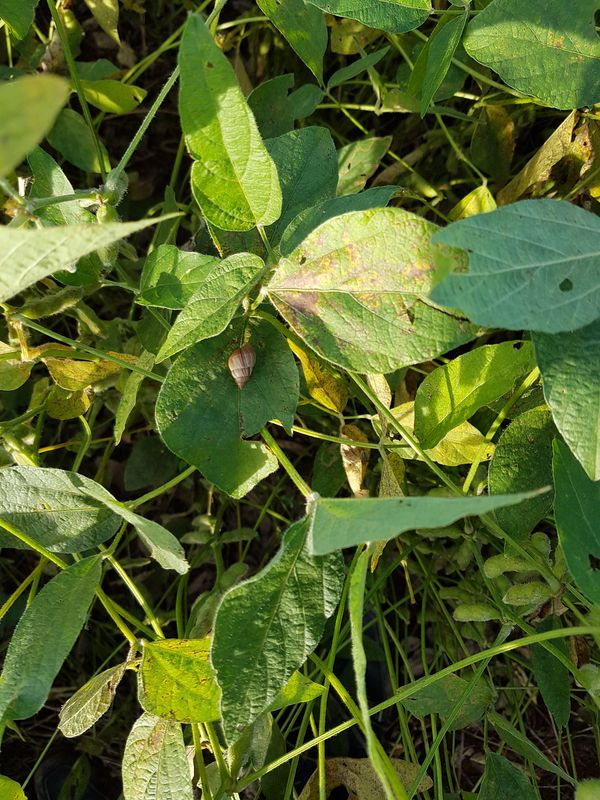Gastropoda: (217, 339, 268, 395)
